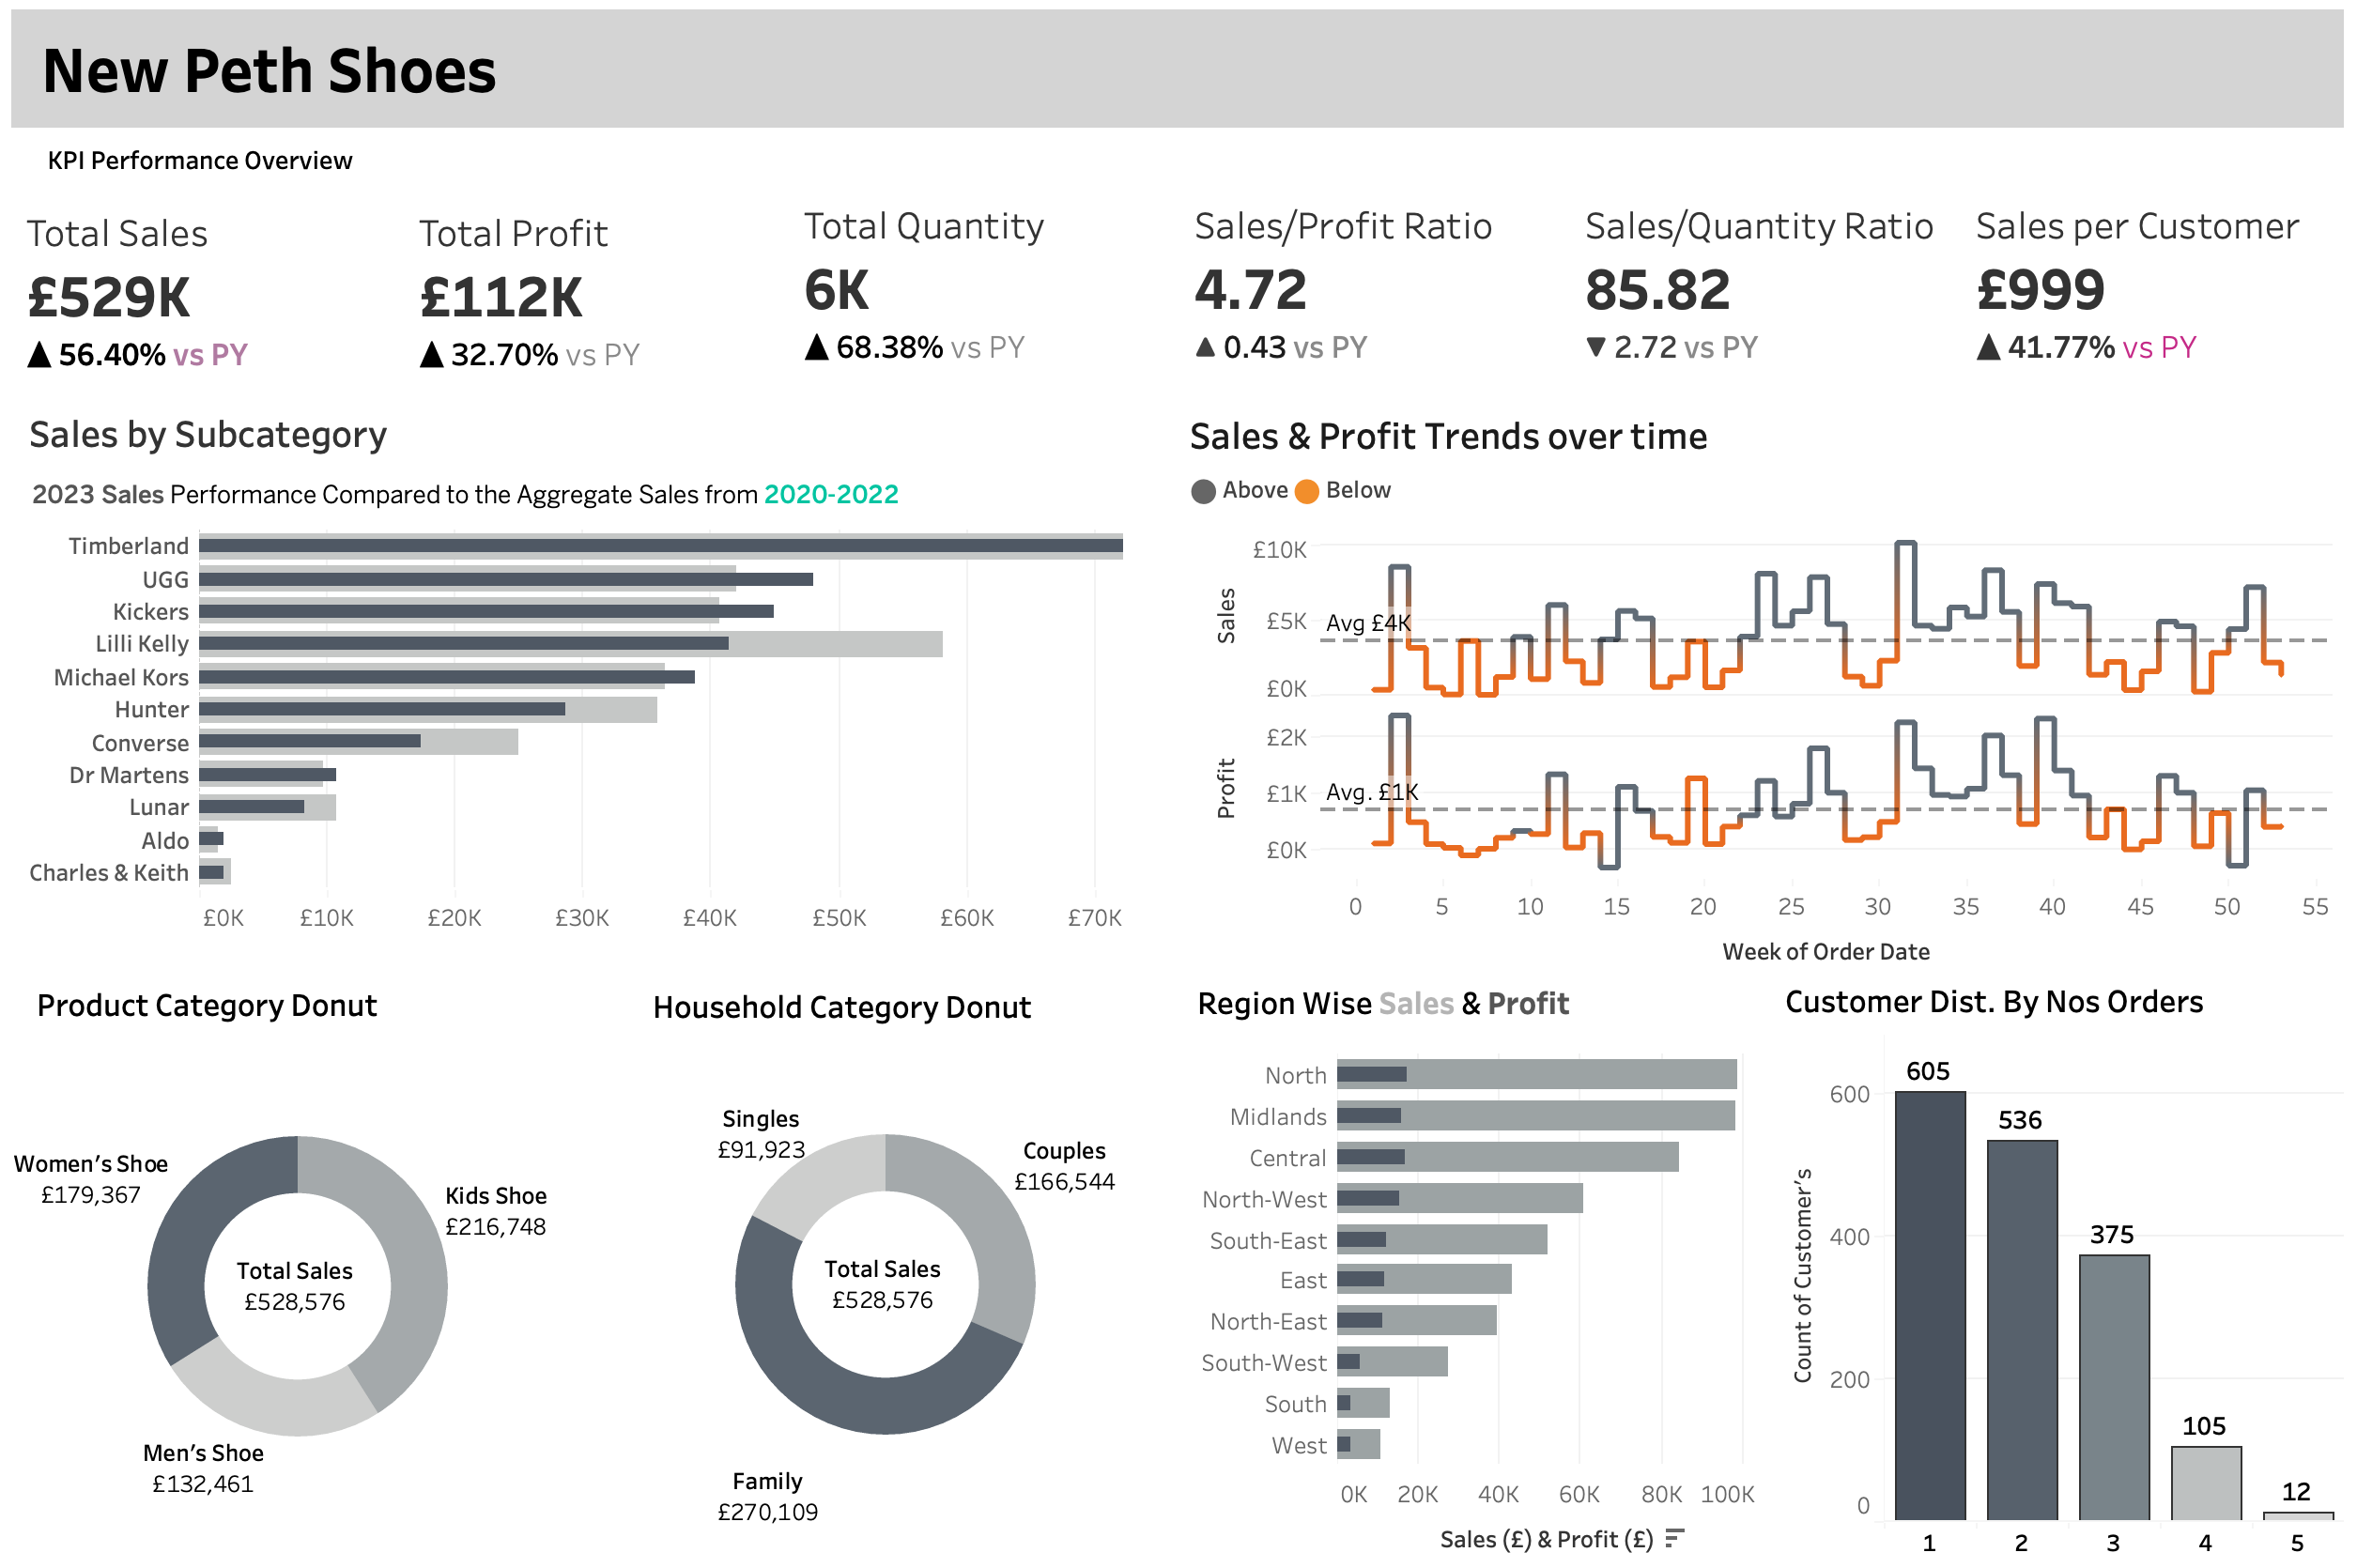

The dashboard page shown, as its layout file describes it:
{"tool":"tableau","page":{"name":"Dashboard 1 (2)","canvas":[1250,850],"ordinal":1},"visuals":[{"type":"text","box":[0,0,1250,71]},{"type":"text","box":[0,71,1250,26]},{"type":"worksheet","title":"Total Sales","mark":"Line","rows":["Calculation_6936247136378552365"],"cols":["Order Date"],"box":[0,97,209,116]},{"type":"worksheet","title":"Total Profit","mark":"Automatic","rows":["Min/Max Sales (copy)_6936247136721854510"],"cols":["Order Date"],"box":[209,97,209,116]},{"type":"worksheet","title":"Total Quantity","mark":"Automatic","rows":["Min/Max Sales (copy)_6936247136722690095"],"cols":["Order Date"],"box":[418,97,208,116]},{"type":"worksheet","title":"Sales/Profit","mark":"Bar","rows":["Order Date"],"cols":["CY Profit (copy)_6936247135230296071"],"box":[626,97,208,116]},{"type":"worksheet","title":"Sales/Quantity","mark":"Automatic","rows":["CY Quantity (copy)_6936247135233392652"],"cols":["Order Date"],"box":[834,97,208,116]},{"type":"worksheet","title":"Sheet 14","mark":"Automatic","rows":["Min/Max Customers (copy)_6936247136732979254"],"cols":["Order Date"],"box":[1042,97,208,116]},{"type":"text","box":[0,213,625,32]},{"type":"text","box":[625,213,625,34]},{"type":"worksheet","title":"Sheet 16","mark":"Automatic","box":[0,245,625,32]},{"type":"text","box":[625,247,625,25]},{"type":"worksheet","title":"weekly trends","mark":"Line","rows":["Calculation_6936247135215976448","Calculation_6936247135229874182"],"cols":["Order Date"],"box":[625,272,625,259]},{"type":"worksheet","title":"Subcategory","mark":"Bar","rows":["Sub-Category"],"cols":["CY Sales (copy)_6936247137971130430","Calculation_6936247135215976448"],"box":[0,277,625,254]},{"type":"text","box":[946,517,286,30]},{"type":"text","box":[633,518,286,30]},{"type":"text","box":[343,520,286,30]},{"type":"text","box":[15,521,312,25]},{"type":"worksheet","title":"Category Donut","mark":"Pie","cols":["Calculation_6936247135309713426","Calculation_6936247135309942804"],"box":[0,531,313,303]},{"type":"worksheet","title":"Household Donut","mark":"Pie","cols":["Calculation_6936247135309713426","Calculation_6936247135309942804"],"box":[313,531,313,303]},{"type":"worksheet","title":"Sales/Discount (3)","mark":"Bar","rows":["Region"],"cols":["Sales (£)","Profit (£)"],"box":[626,531,312,303]},{"type":"worksheet","title":"Customer Sist","mark":"Automatic","rows":["Customer ID"],"cols":["Calculation_6936247136205787176"],"box":[938,531,312,303]}]}

Visuals, with their boxes in screenshot pixels (x1, y1, x2, y2), scaled from the page's 1250x850 canvas onto the 2357x1568 screenshot:
text: BBox(0, 0, 2356, 131)
text: BBox(0, 131, 2356, 179)
"Total Sales" worksheet (Line marks): BBox(0, 179, 394, 392)
"Total Profit" worksheet: BBox(394, 179, 788, 392)
"Total Quantity" worksheet: BBox(788, 179, 1180, 392)
"Sales/Profit" worksheet (Bar marks): BBox(1180, 179, 1573, 392)
"Sales/Quantity" worksheet: BBox(1573, 179, 1964, 392)
"Sheet 14" worksheet: BBox(1964, 179, 2356, 392)
text: BBox(0, 392, 1178, 452)
text: BBox(1178, 392, 2356, 455)
"Sheet 16" worksheet: BBox(0, 452, 1178, 511)
text: BBox(1178, 455, 2356, 501)
"weekly trends" worksheet (Line marks): BBox(1178, 501, 2356, 979)
"Subcategory" worksheet (Bar marks): BBox(0, 511, 1178, 979)
text: BBox(1784, 954, 2323, 1009)
text: BBox(1194, 956, 1733, 1011)
text: BBox(647, 960, 1186, 1015)
text: BBox(28, 961, 617, 1007)
"Category Donut" worksheet (Pie marks): BBox(0, 979, 591, 1539)
"Household Donut" worksheet (Pie marks): BBox(591, 979, 1180, 1539)
"Sales/Discount (3)" worksheet (Bar marks): BBox(1180, 979, 1769, 1539)
"Customer Sist" worksheet: BBox(1769, 979, 2356, 1539)
